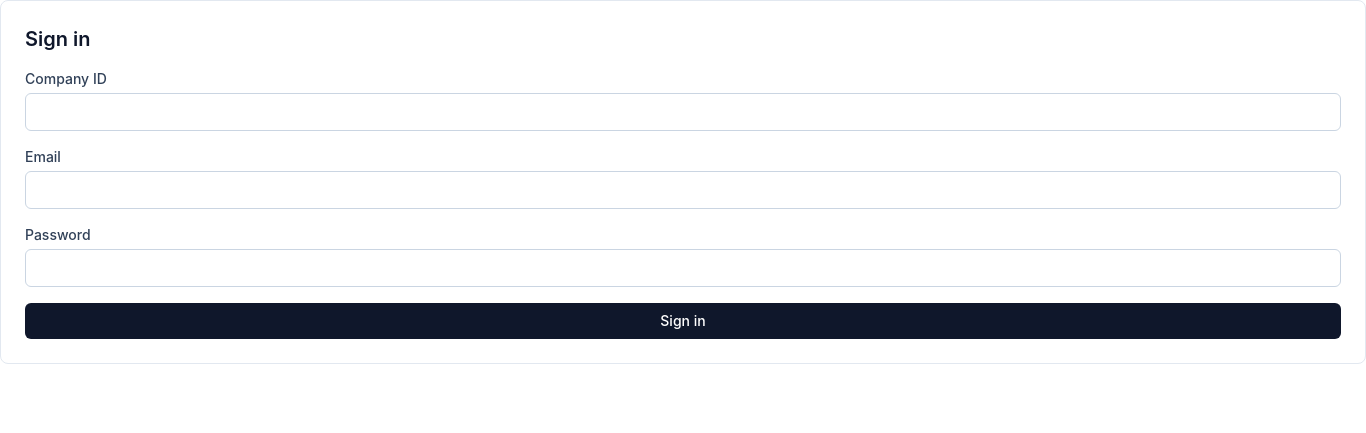
LoginPage › shows a throttle message with a wait hint on 429
The width and height of the screenshot is (1366, 433).
Type "10" into the field labelled "Company ID" at [683, 112], box x1=25 y1=93 x2=1341 y2=131
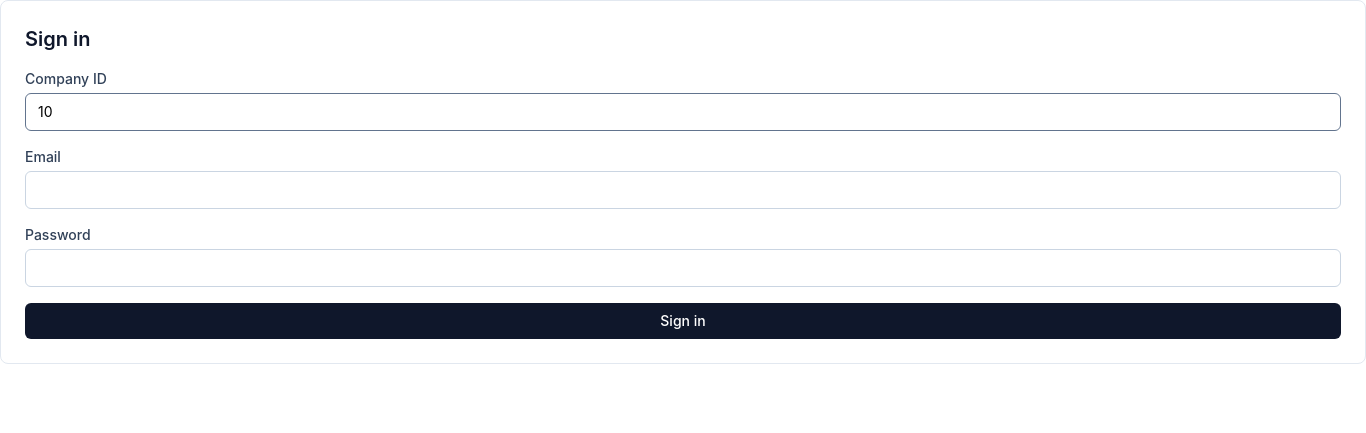
Type "alice@example.com" into the field labelled "Email" at [683, 190], box x1=25 y1=171 x2=1341 y2=209
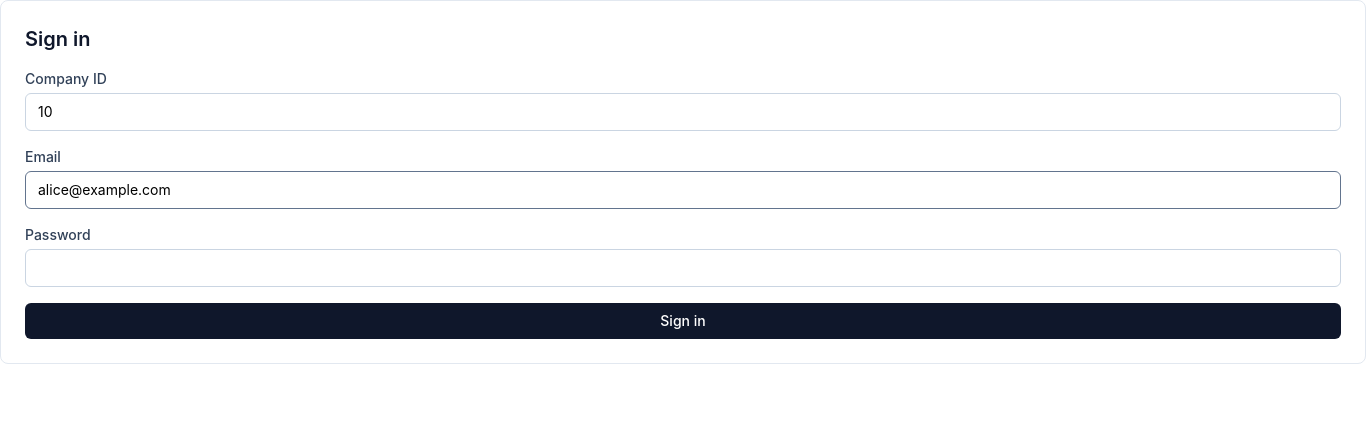
Type "secret" into the password field labelled "Password" at [683, 268], box x1=25 y1=249 x2=1341 y2=287
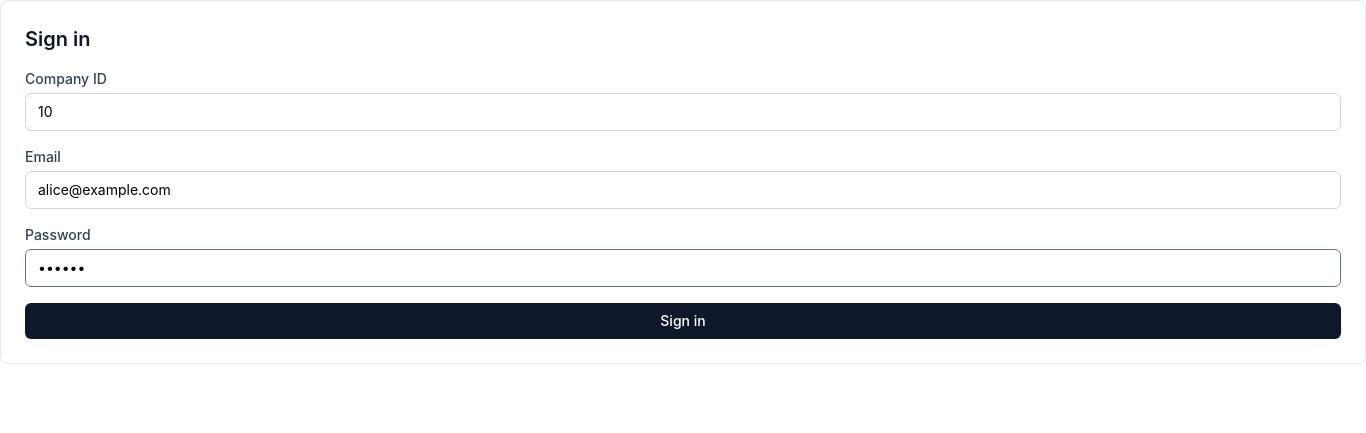
Click the button "Sign in" at [683, 321], box x1=25 y1=303 x2=1341 y2=339
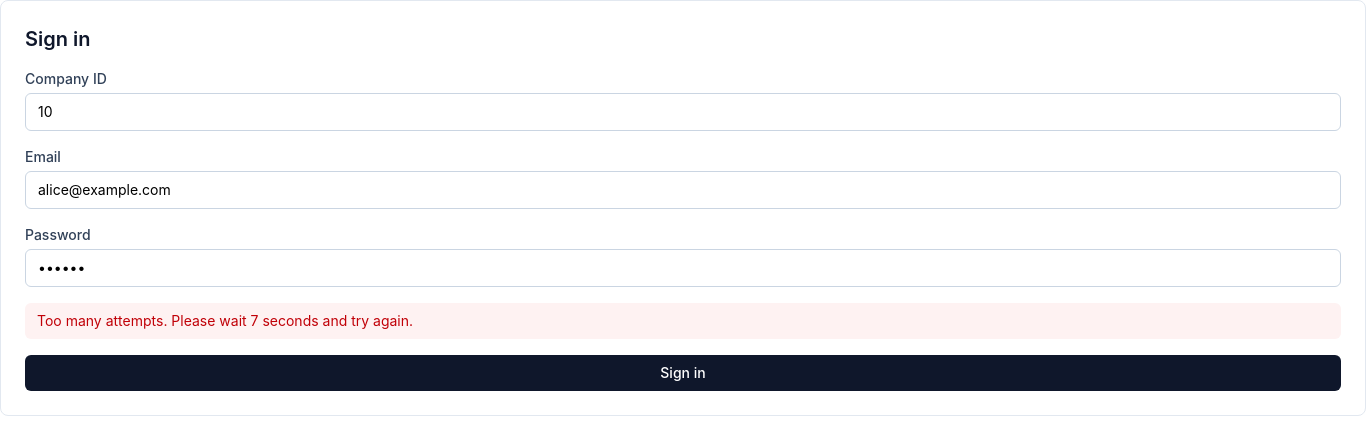
Now the message shows "Too many attempts", box x1=37 y1=312 x2=413 y2=329
Now the message shows "7", box x1=37 y1=312 x2=413 y2=329
